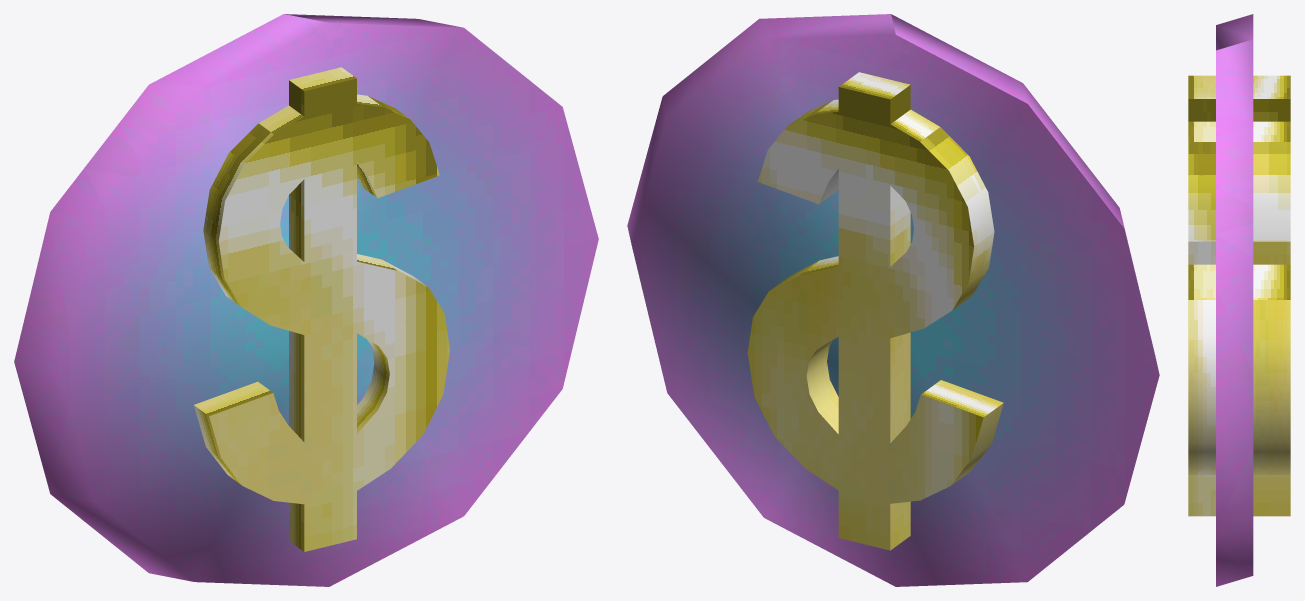
The model's file is Dollar.fbx.
The picture shows the model from 3 angles, left to right: view 1: azimuth 30°, elevation 25°; view 2: azimuth 150°, elevation 25°; view 3: azimuth 270°, elevation 25°; orthographic projection. The views are drawn at different scales.
Parts seen in each view (by area): view 1: bigdollar; view 2: bigdollar; view 3: bigdollar.
Part boxes in pixels (<box>): bigdollar: <box>14,14,598,586</box>; bigdollar: <box>627,14,1159,586</box>; bigdollar: <box>1188,14,1290,586</box>.
Bounding box in the file's own units: 62.8 × 60 × 10.91.
Materials: 2 (2 with a texture image).
